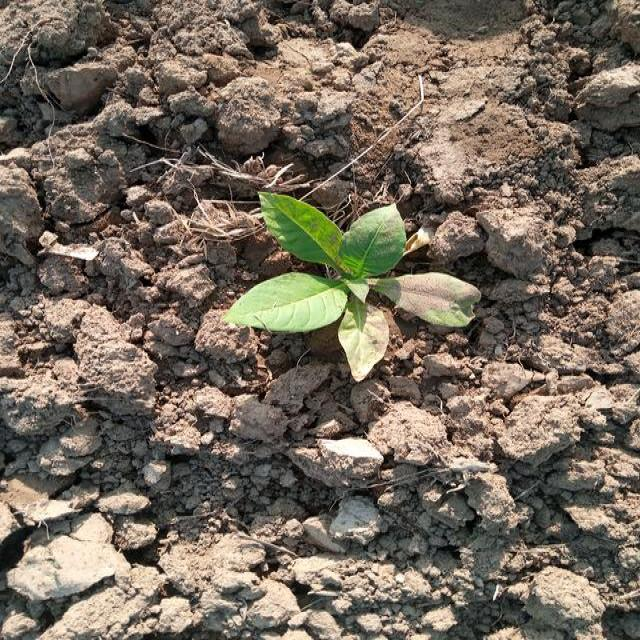crop: (242, 186, 483, 363)
